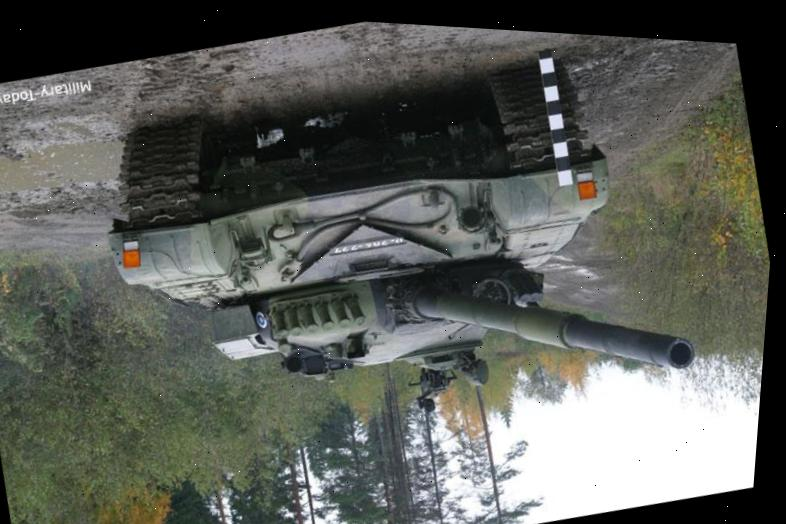tank: (66, 9, 721, 497)
